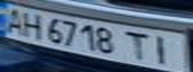1: (75, 21, 96, 52)
6: (42, 16, 66, 45)
7: (57, 18, 81, 47)
8: (93, 25, 118, 56)
A: (0, 5, 30, 35)
H: (18, 10, 45, 39)
I: (145, 33, 184, 66)
T: (121, 28, 154, 62)
